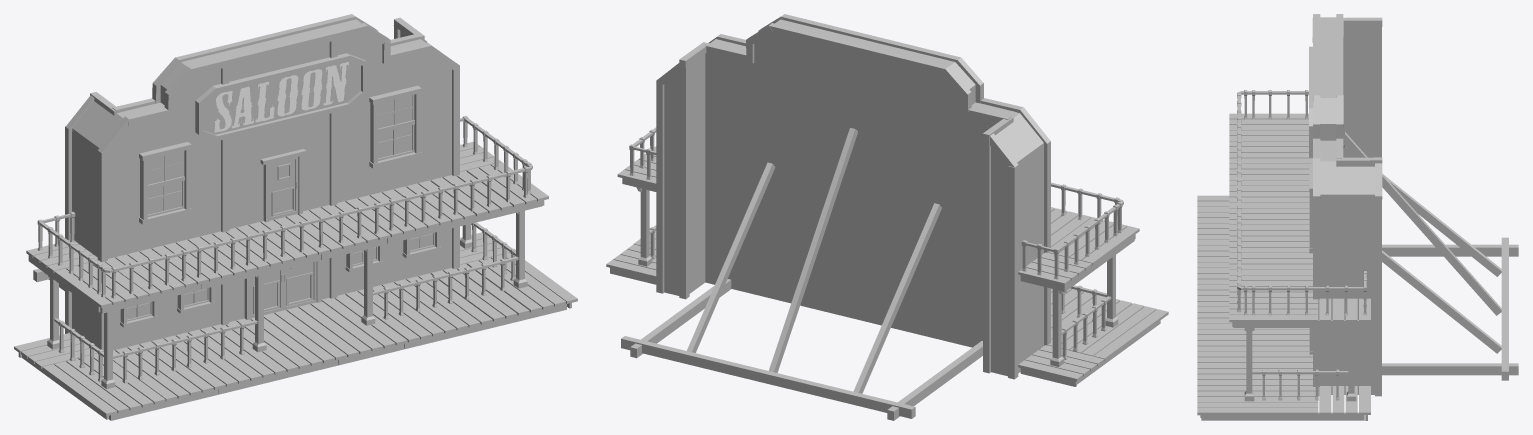
The model's file is SM_SALOON.fbx.
The picture shows the model from 3 angles, left to right: view 1: azimuth 30°, elevation 25°; view 2: azimuth 150°, elevation 25°; view 3: azimuth 270°, elevation 25°; orthographic projection. The views are drawn at different scales.
Parts seen in each view (by area): view 1: SM_SALOON; view 2: SM_SALOON; view 3: SM_SALOON.
Part boxes in pixels (x1=…): SM_SALOON: x1=14, y1=14, x2=577, y2=420; SM_SALOON: x1=606, y1=14, x2=1168, y2=420; SM_SALOON: x1=1197, y1=14, x2=1518, y2=420.
Size of the model in its own units: 1865 by 1037 by 1166.
